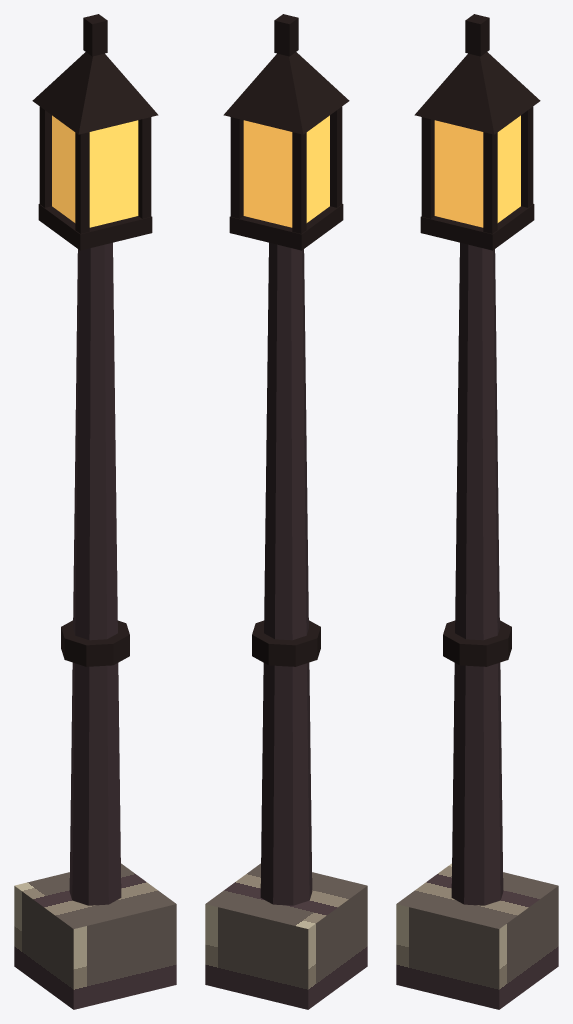
Rendered from lamp_post.glb.
3 views of the same model, side by side, from view 1: azimuth 30°, elevation 25°; view 2: azimuth 150°, elevation 25°; view 3: azimuth 330°, elevation 25° (orthographic).
Visible parts, largest first — view 1: lamp_post; view 2: lamp_post; view 3: lamp_post.
Part boxes in pixels (bbox=[...]): lamp_post: bbox=[14, 14, 176, 1009]; lamp_post: bbox=[205, 14, 367, 1009]; lamp_post: bbox=[396, 14, 558, 1009].
Size of the model in its own units: 0.4 by 3.55 by 0.4.
Materials: 3 (1 with a texture image).
